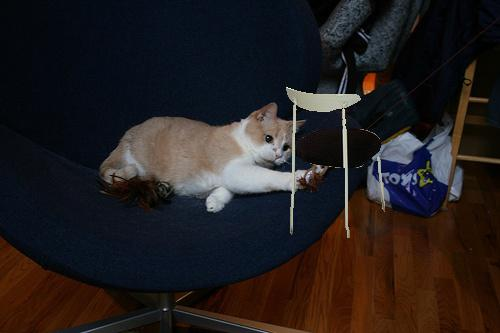tampered: (287, 88, 385, 238)
